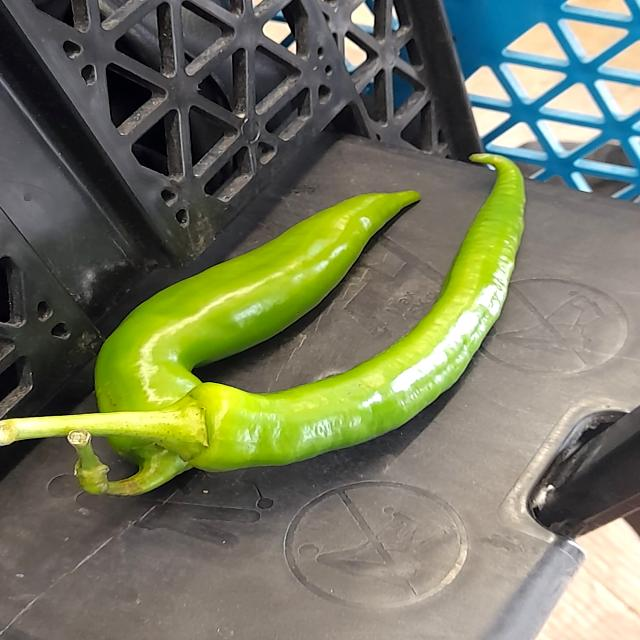green pepper: (142, 137, 550, 483), (65, 172, 438, 497)
